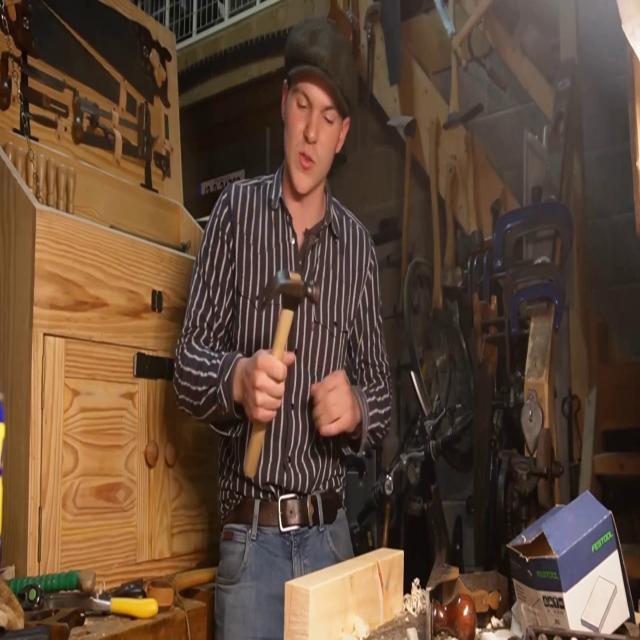hammer: (243, 273, 319, 479)
